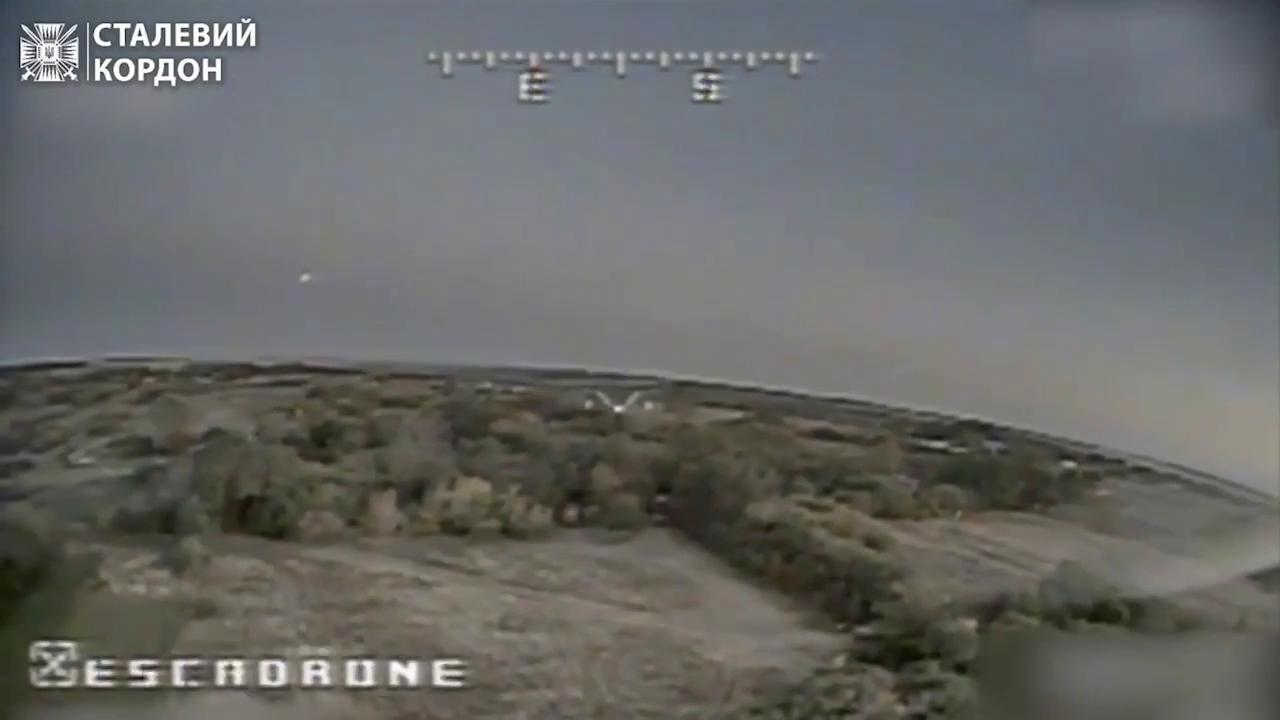tank: (548, 481, 603, 539)
